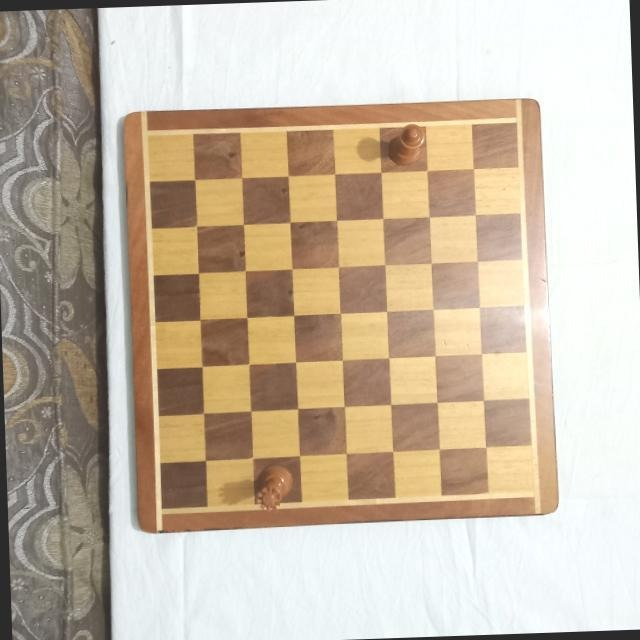white-king: (383, 124, 424, 164)
white-queen: (252, 462, 296, 513)
